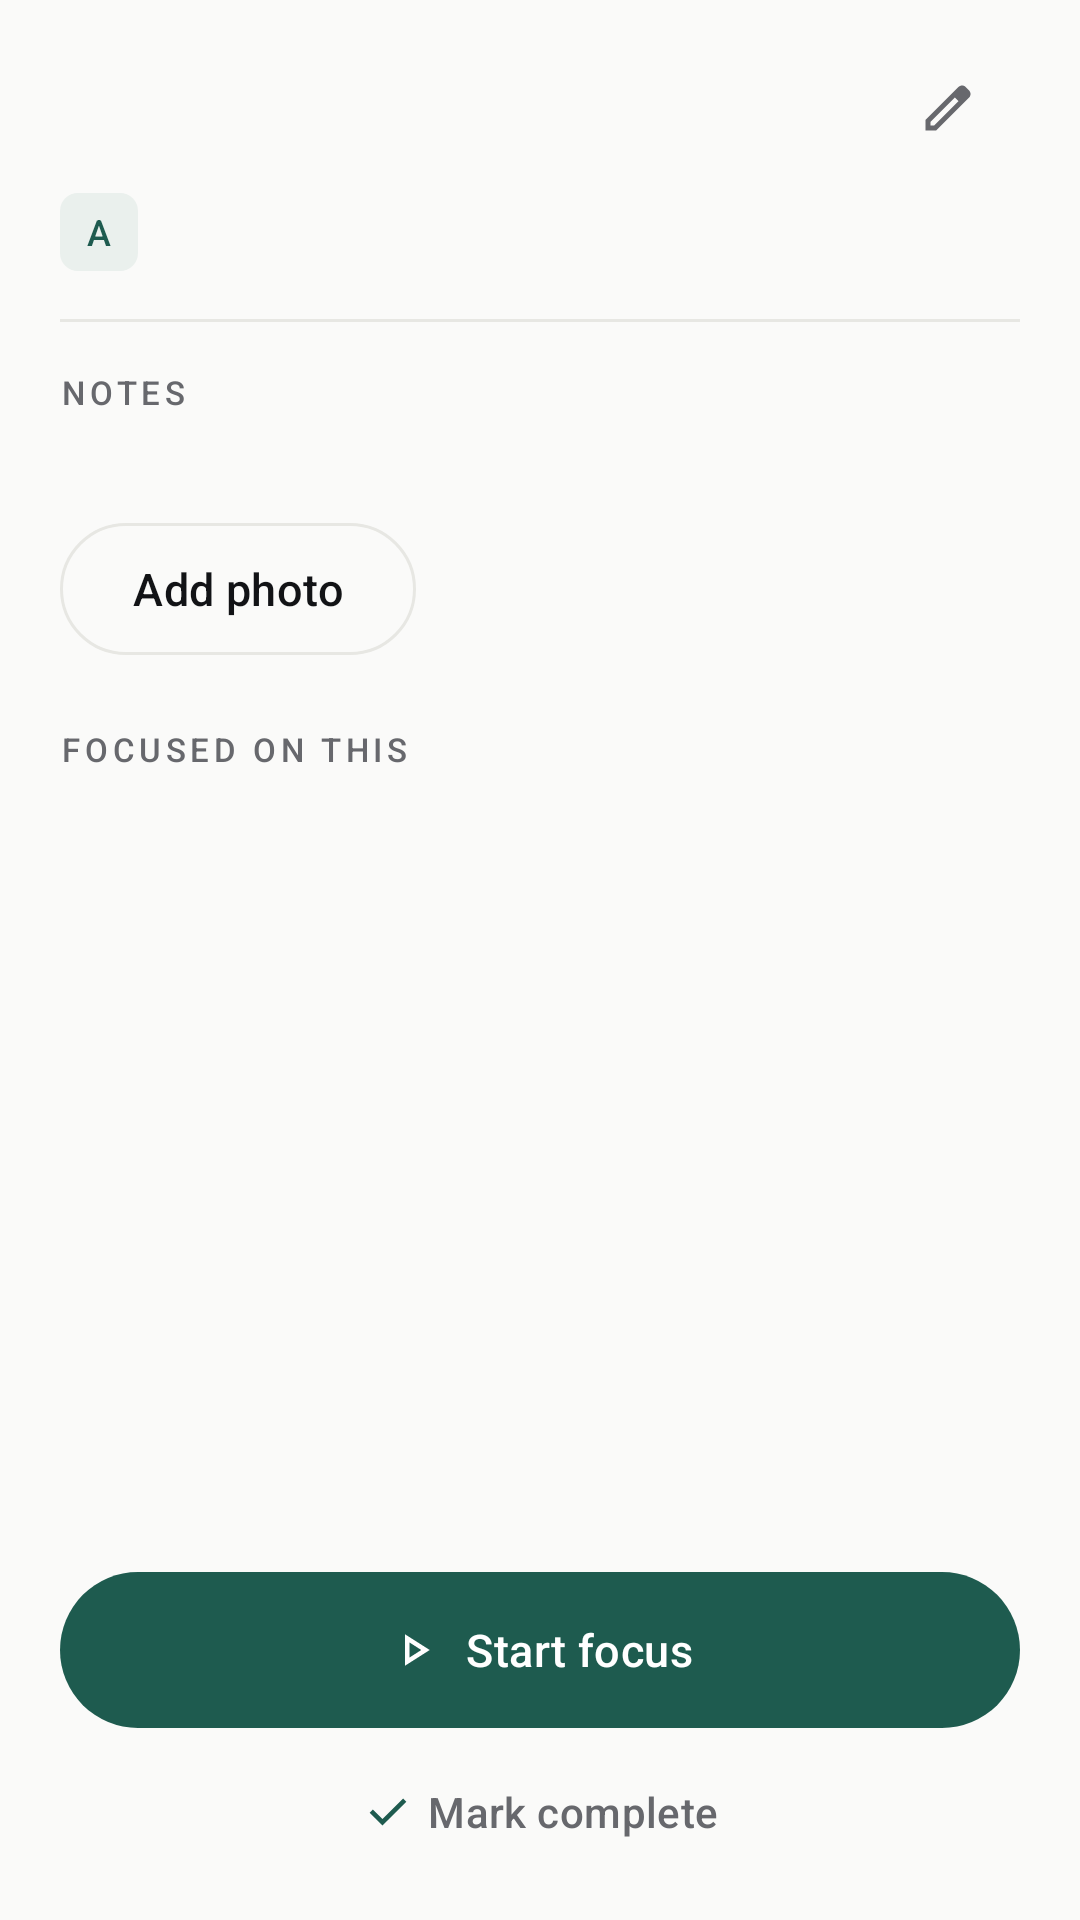

Point at icon controls on the screen. Image size 1080*1920, points as [x,y].
Edit: [948,108]
